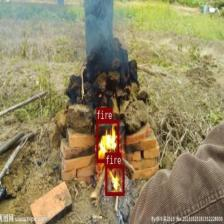fire: (96, 119, 119, 162), (105, 164, 124, 194)
